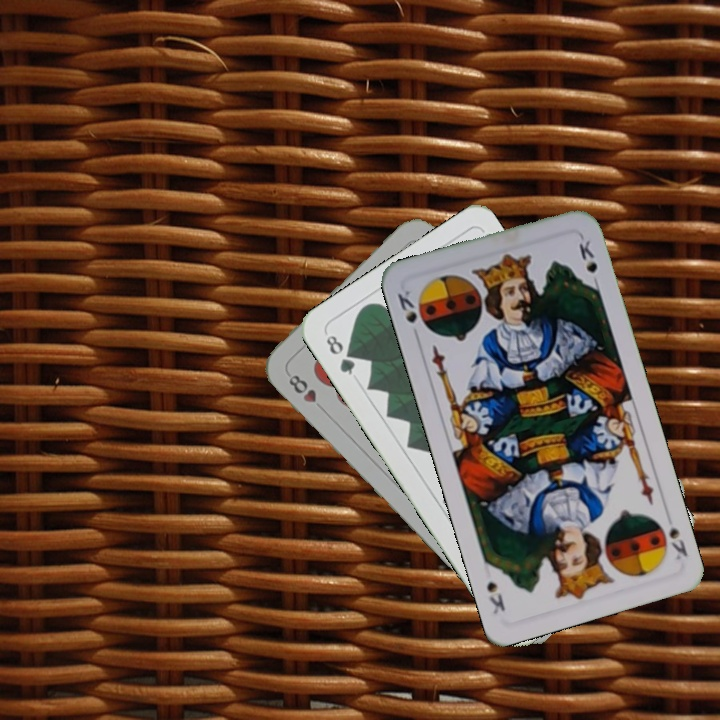G8: (322, 330, 358, 378)
H8: (284, 370, 329, 415)
SK: (393, 286, 422, 343), (665, 523, 690, 563)
